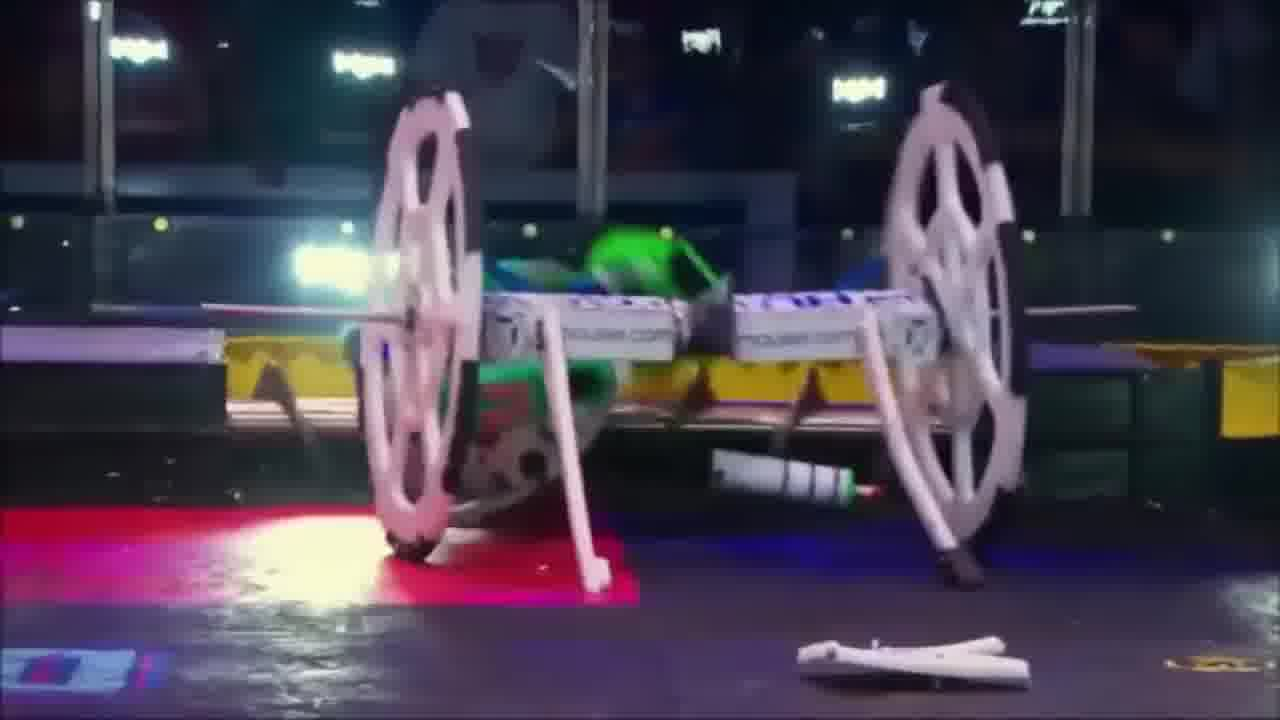combatbot: (358, 85, 1035, 564)
debris: (797, 632, 1033, 699)
